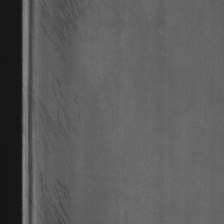water_spot: (39, 5, 88, 219)
